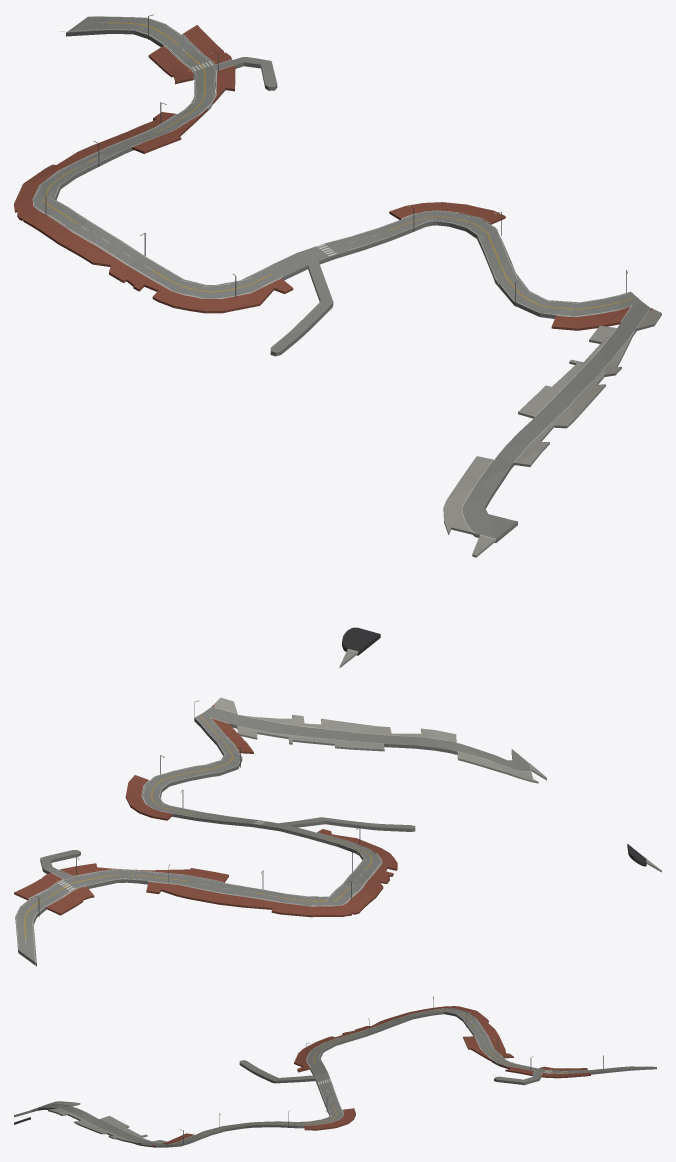
3 renders of one model, top to bottom at view 1: azimuth 30°, elevation 25°; view 2: azimuth 150°, elevation 25°; view 3: azimuth 270°, elevation 25°, orthographic. The views are drawn at different scales.
Bounding box in the file's own units: 140 × 78.2 × 294.
